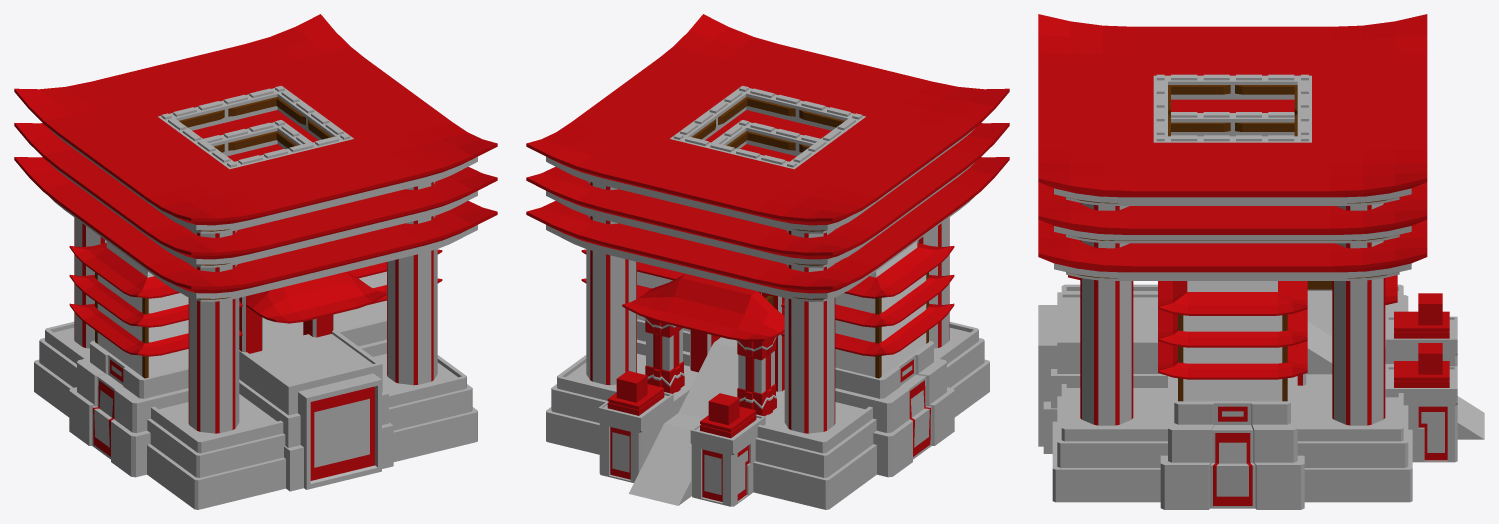
File: JapaneseTemple.fbx
3 views of the same model, side by side, from view 1: azimuth 30°, elevation 25°; view 2: azimuth 150°, elevation 25°; view 3: azimuth 270°, elevation 25° (orthographic). The views are drawn at different scales.
Visible parts, largest first — view 1: main roof, base, building base, main pillars, art piece, building roof, buildings, back roof, inside pillars; view 2: main roof, base, building base, main pillars, building roof, entrance roof, entrance pillars, buildings, inside pillars; view 3: main roof, base, building base, main pillars, building roof, buildings, art piece.
Part boxes in pixels (bbox=[...]): main roof: bbox=[14, 14, 497, 301]; base: bbox=[34, 321, 477, 509]; building base: bbox=[69, 318, 393, 491]; main pillars: bbox=[74, 181, 437, 433]; art piece: bbox=[298, 373, 381, 489]; building roof: bbox=[69, 243, 442, 356]; buildings: bbox=[95, 241, 386, 378]; back roof: bbox=[246, 272, 386, 323]; inside pillars: bbox=[239, 294, 333, 353]; main roof: bbox=[526, 14, 1009, 301]; base: bbox=[546, 321, 989, 509]; building base: bbox=[628, 319, 954, 505]; main pillars: bbox=[586, 181, 949, 433]; building roof: bbox=[581, 243, 954, 356]; entrance roof: bbox=[622, 274, 784, 341]; entrance pillars: bbox=[644, 317, 776, 416]; buildings: bbox=[637, 241, 928, 378]; inside pillars: bbox=[690, 291, 784, 391]; main roof: bbox=[1038, 14, 1427, 280]; base: bbox=[1052, 284, 1457, 502]; building base: bbox=[1043, 292, 1484, 509]; main pillars: bbox=[1080, 203, 1385, 425]; building roof: bbox=[1158, 281, 1307, 379]; buildings: bbox=[1178, 281, 1287, 401]; art piece: bbox=[1038, 305, 1057, 446].
Bounding box in the file's own units: 440 × 405 × 496.
